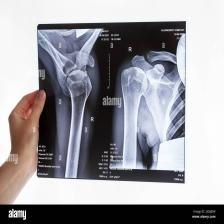impacted-fracture: (37, 27, 186, 179)
